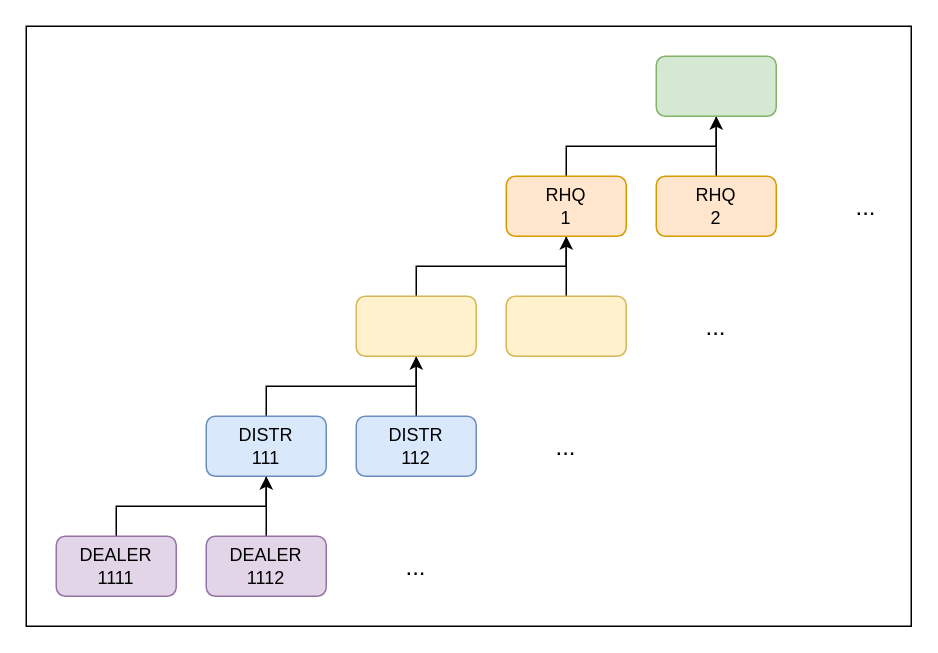
Image size: 938x653. Some labels were removed from this diagram. The centre of each missing label's shape, as x and y in pixels:
"HQ 0" goes at (x=715, y=85).
"NSC 11" goes at (x=415, y=325).
"NSC 12" goes at (x=565, y=325).
